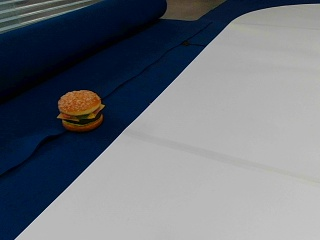burger: (56, 89, 104, 130)
